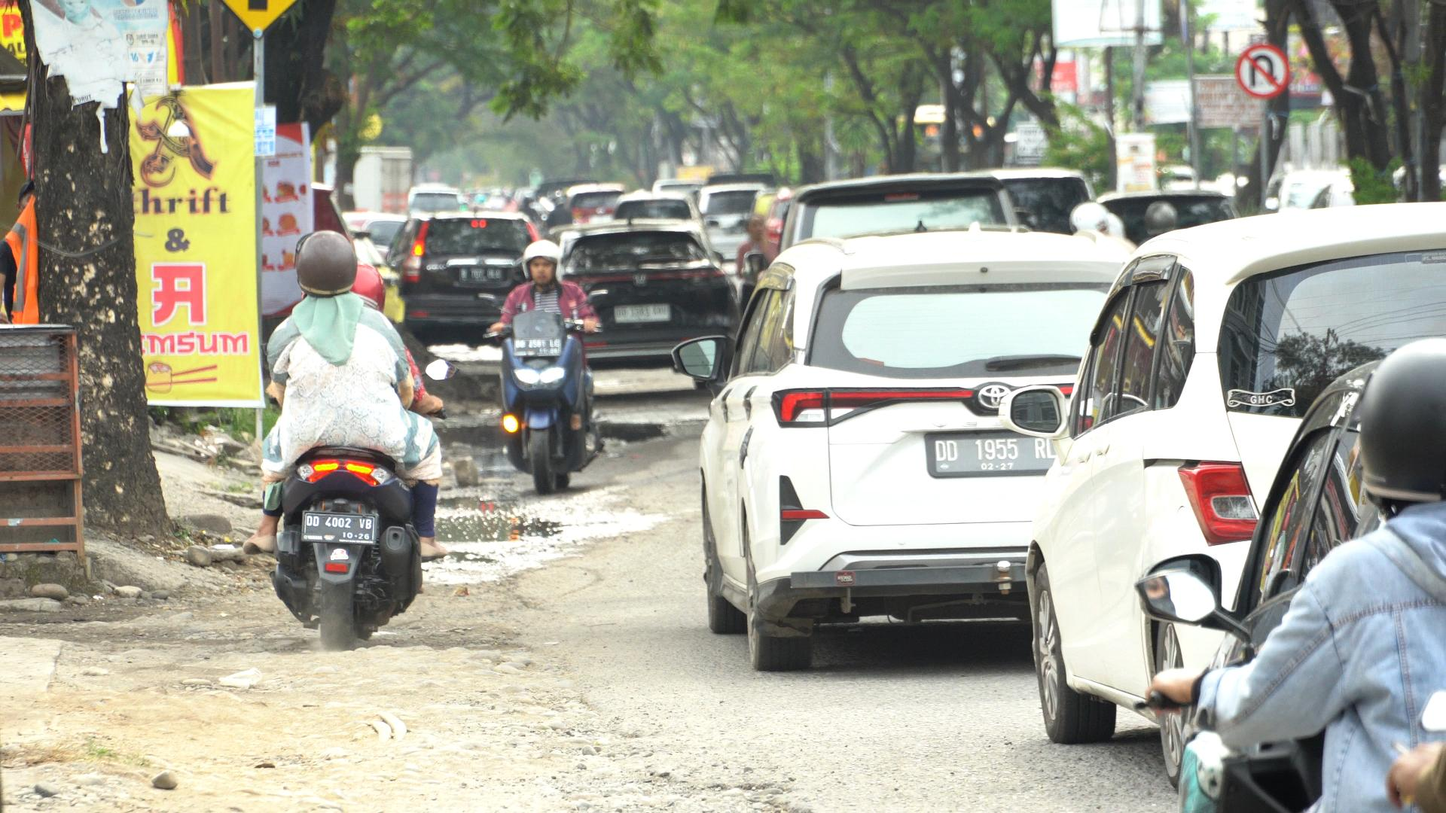number-plate: (510, 336, 564, 359)
